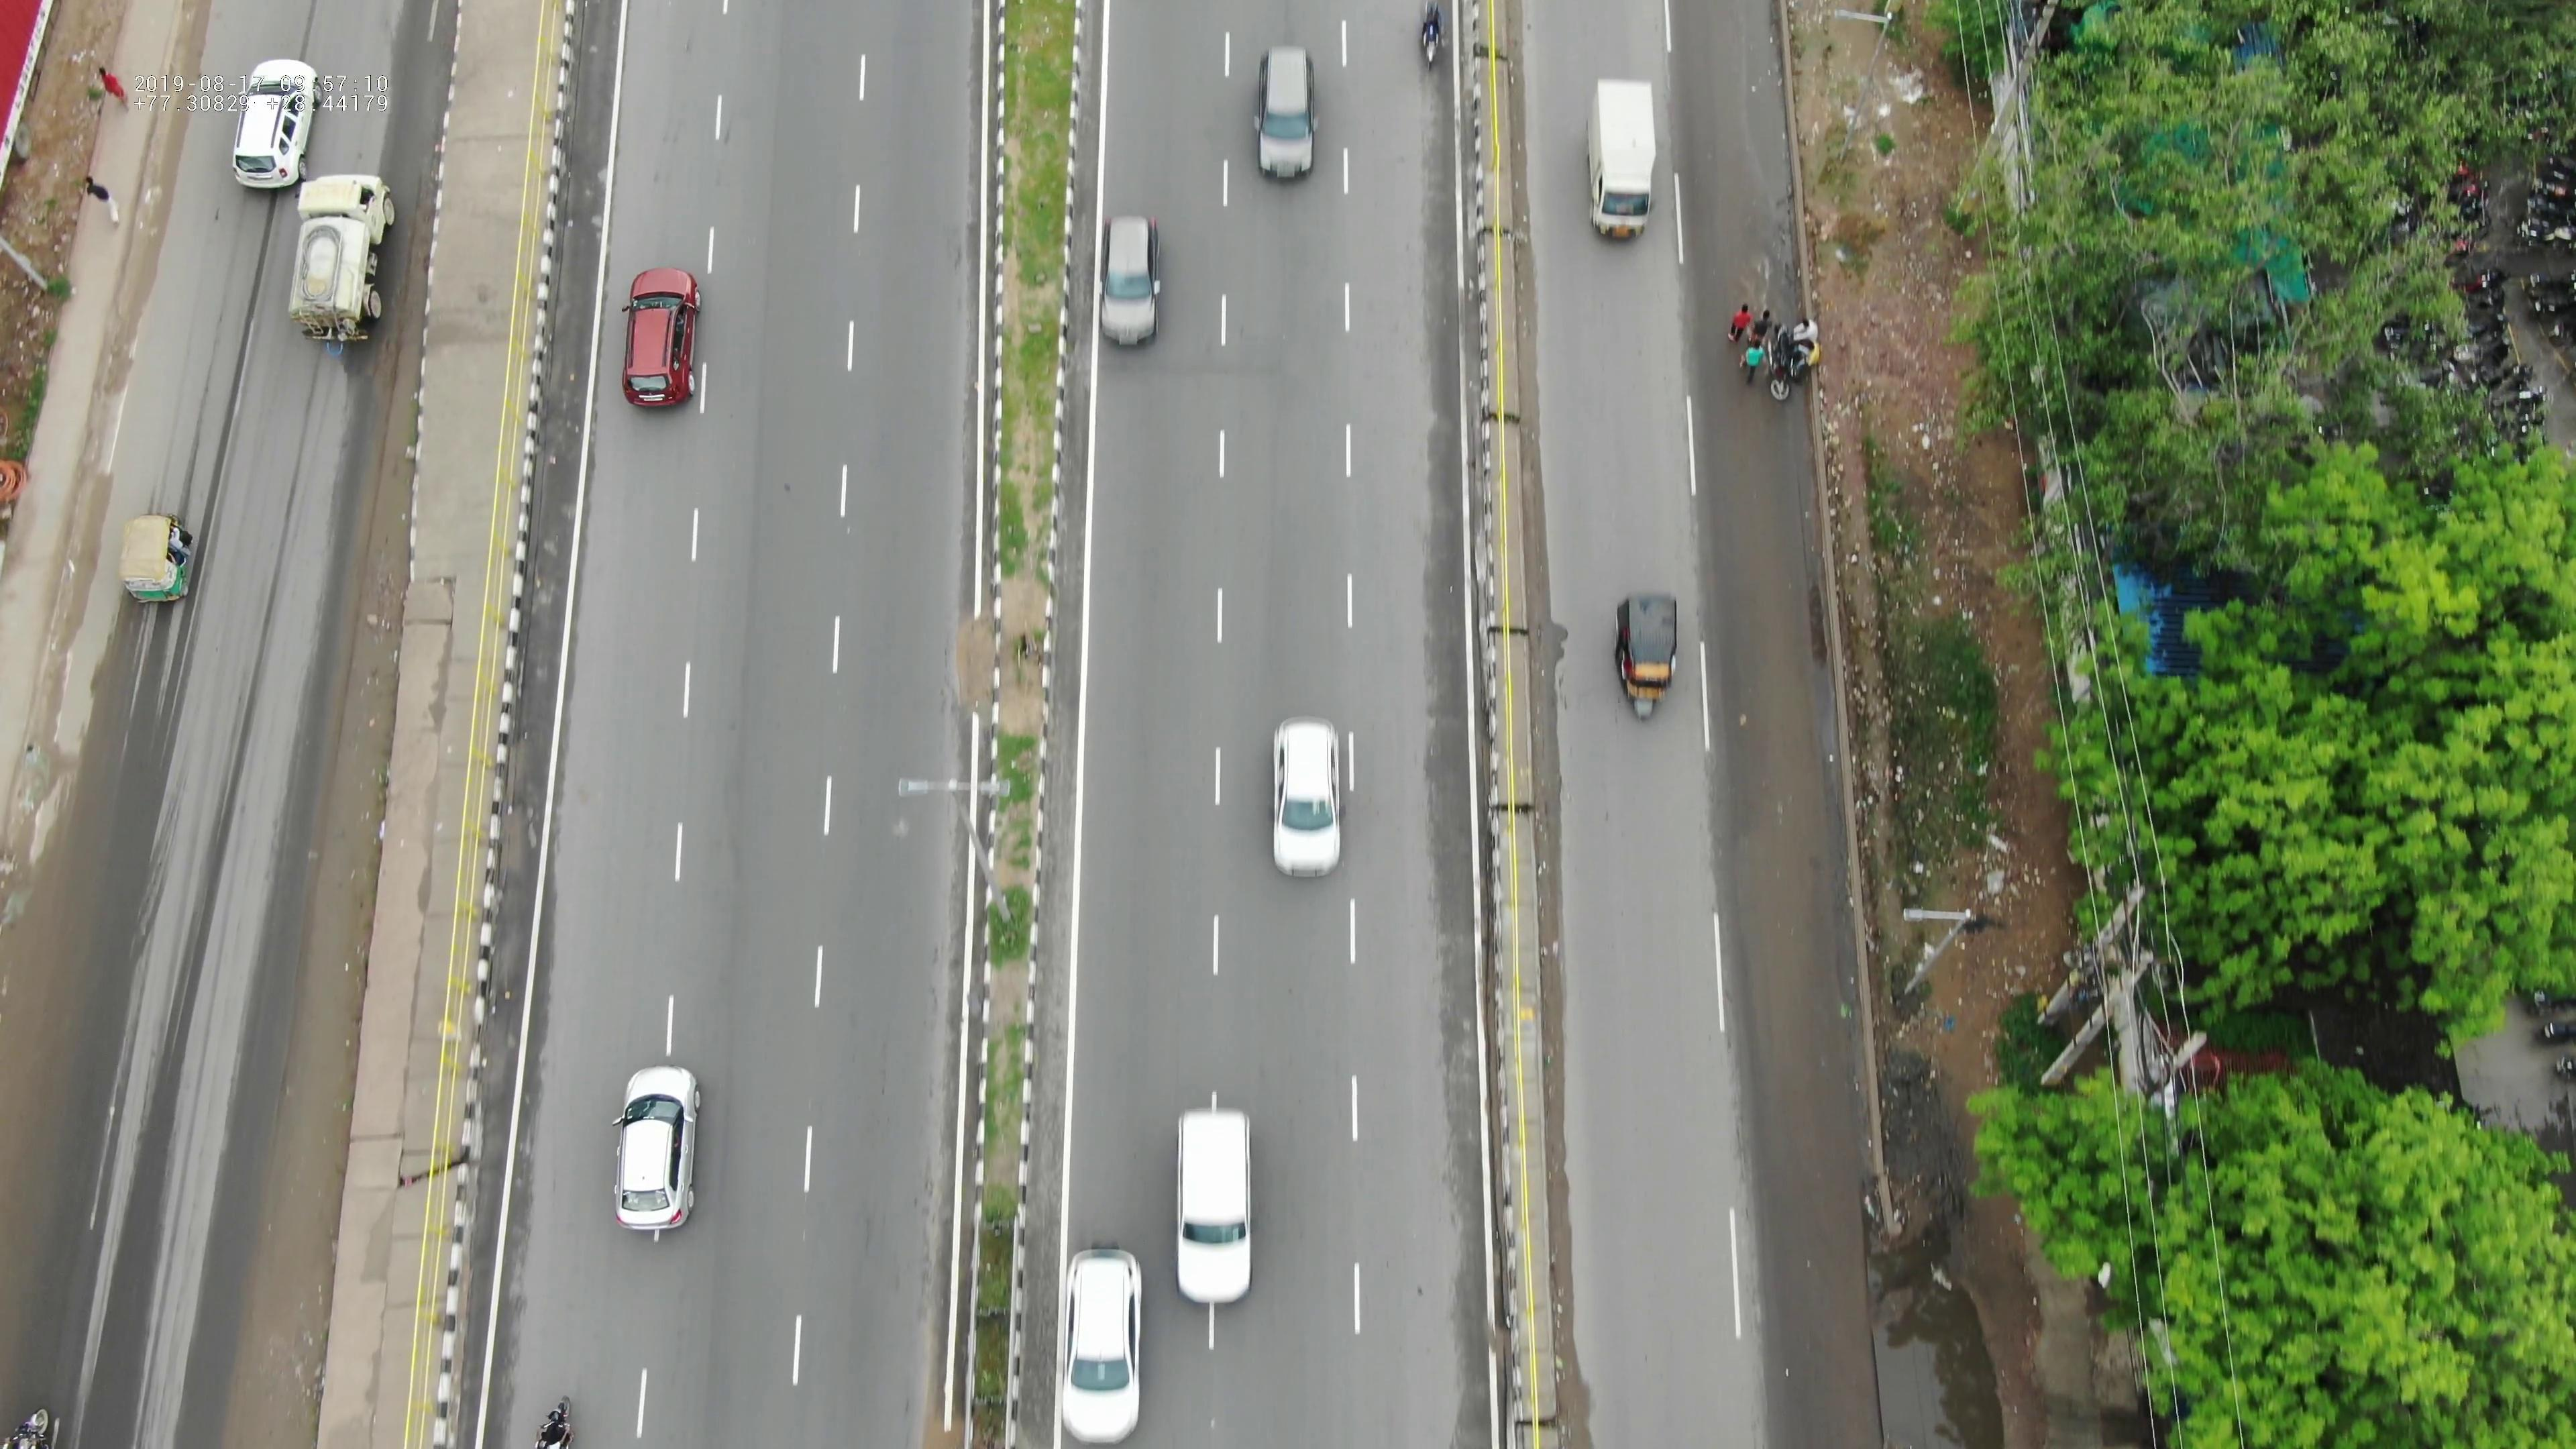Muddy_road: (225, 1092, 357, 1415), (313, 669, 410, 1030)
Waterlogging: (1691, 494, 1863, 1001)
